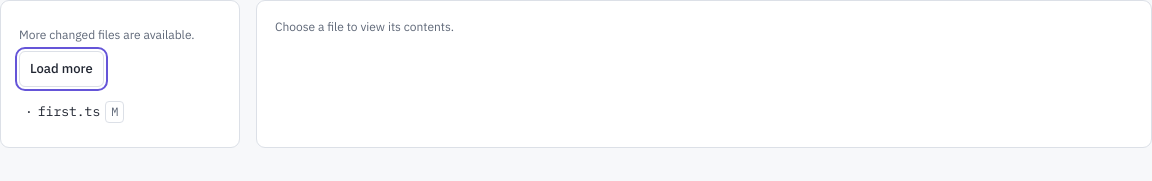
keeps loaded badges items on next-page failure, retries only that page, and restores focus at the end
The image size is (1152, 181).
Click the button with aria-label "Load more changed files": click(61, 69) [19,51,104,87]
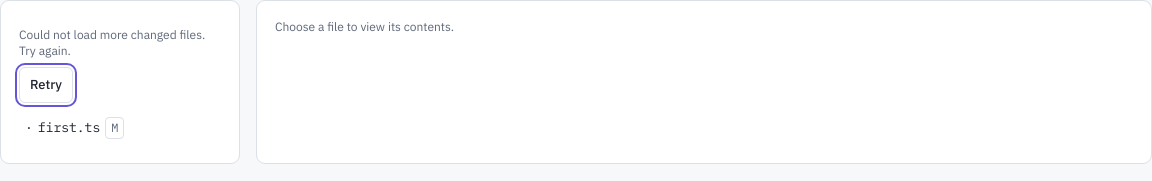
Expected: the button "· first.ts M" is shown, [19,111,221,145]
Click the button "Retry": click(46, 85) [19,67,73,103]
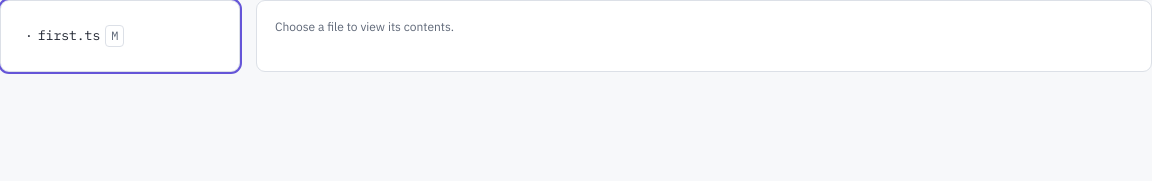
Result: the message "Could not load more changed files. Try again." is gone
